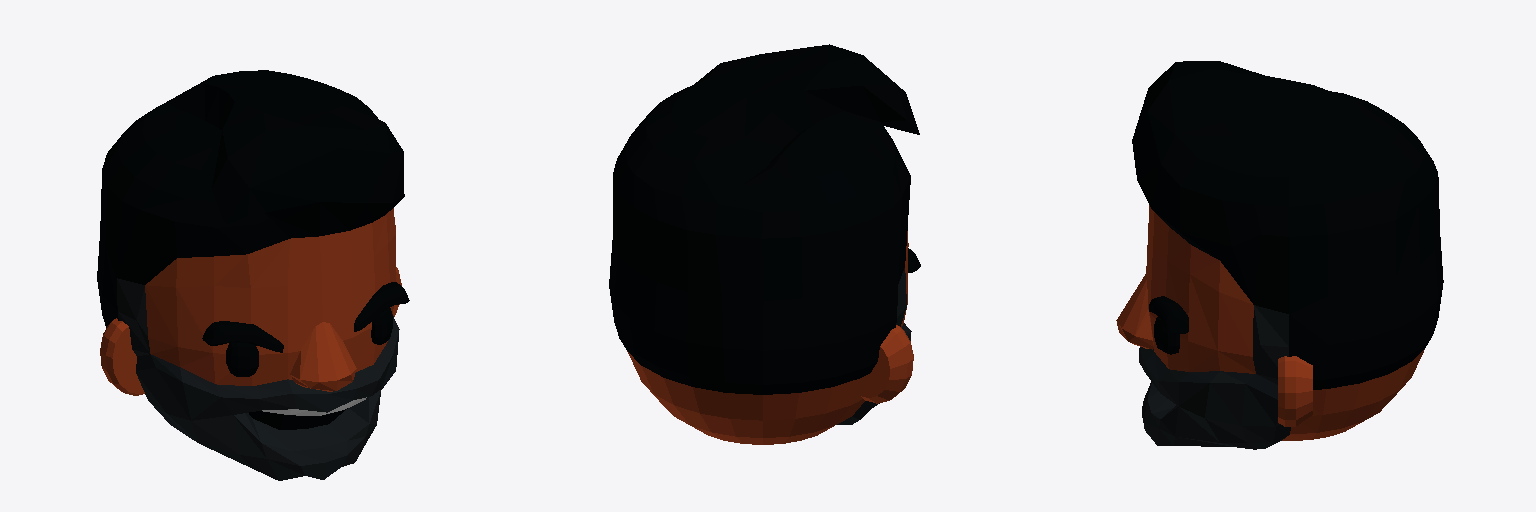
File: character_spaceSoldierHeadA.obj
The picture shows the model from 3 angles: view 1: azimuth 30°, elevation 25°; view 2: azimuth 150°, elevation 25°; view 3: azimuth 270°, elevation 25°; orthographic projection.
Visible parts, largest first — view 1: character_spaceSoldierHeadA_Cube.5756; view 2: character_spaceSoldierHeadA_Cube.5756; view 3: character_spaceSoldierHeadA_Cube.5756.
Boxes of the visible parts, x1,y1,x2,y2 form: character_spaceSoldierHeadA_Cube.5756: [97, 70, 409, 480]; character_spaceSoldierHeadA_Cube.5756: [609, 44, 920, 444]; character_spaceSoldierHeadA_Cube.5756: [1116, 61, 1443, 449].
Bounding box in the file's own units: 1.18 × 1.33 × 1.13.